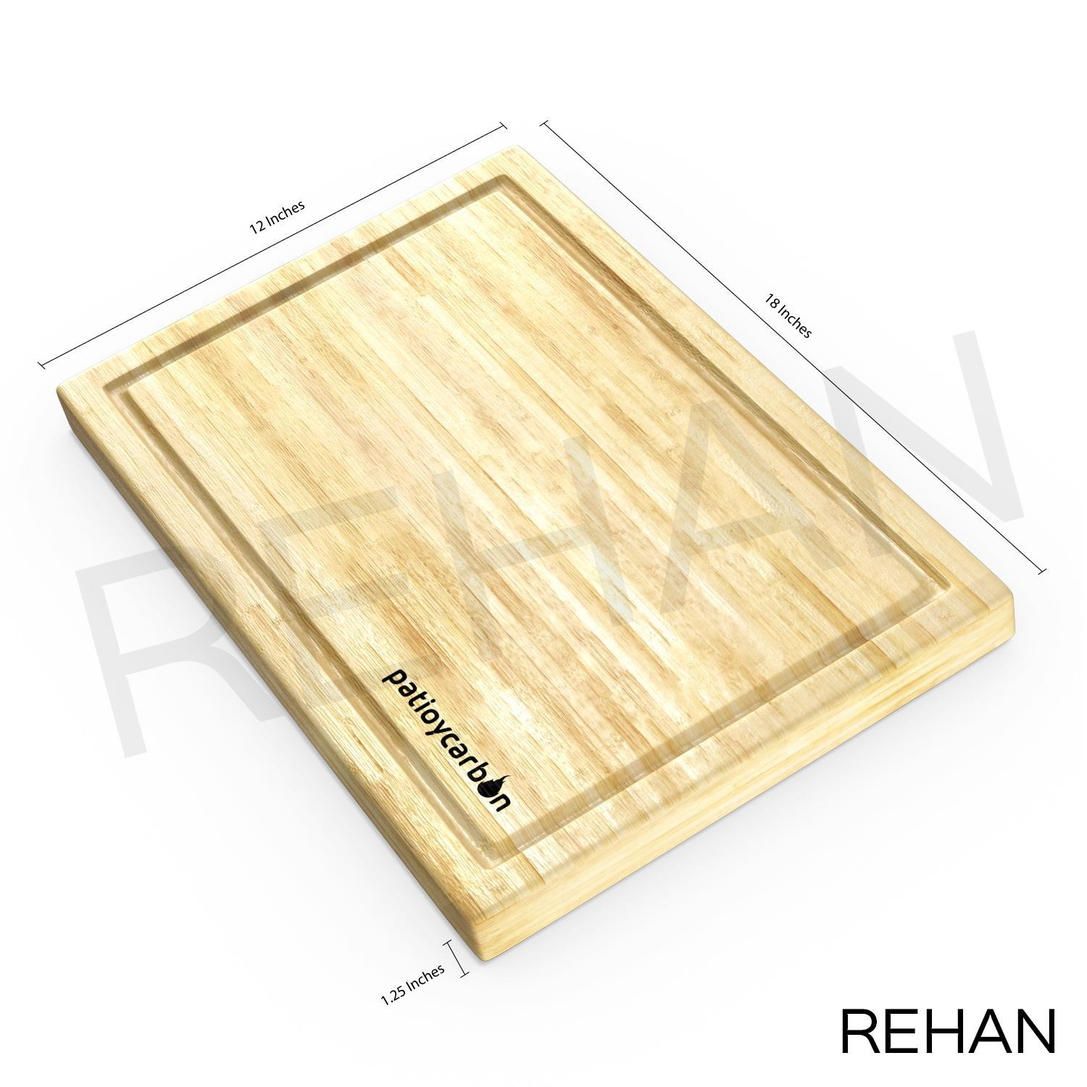gloved_hand: (56, 136, 1024, 966)
